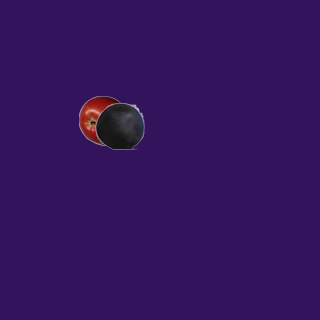Apple Braeburn: (78, 95, 128, 145)
Grape Blue: (94, 100, 144, 150)
